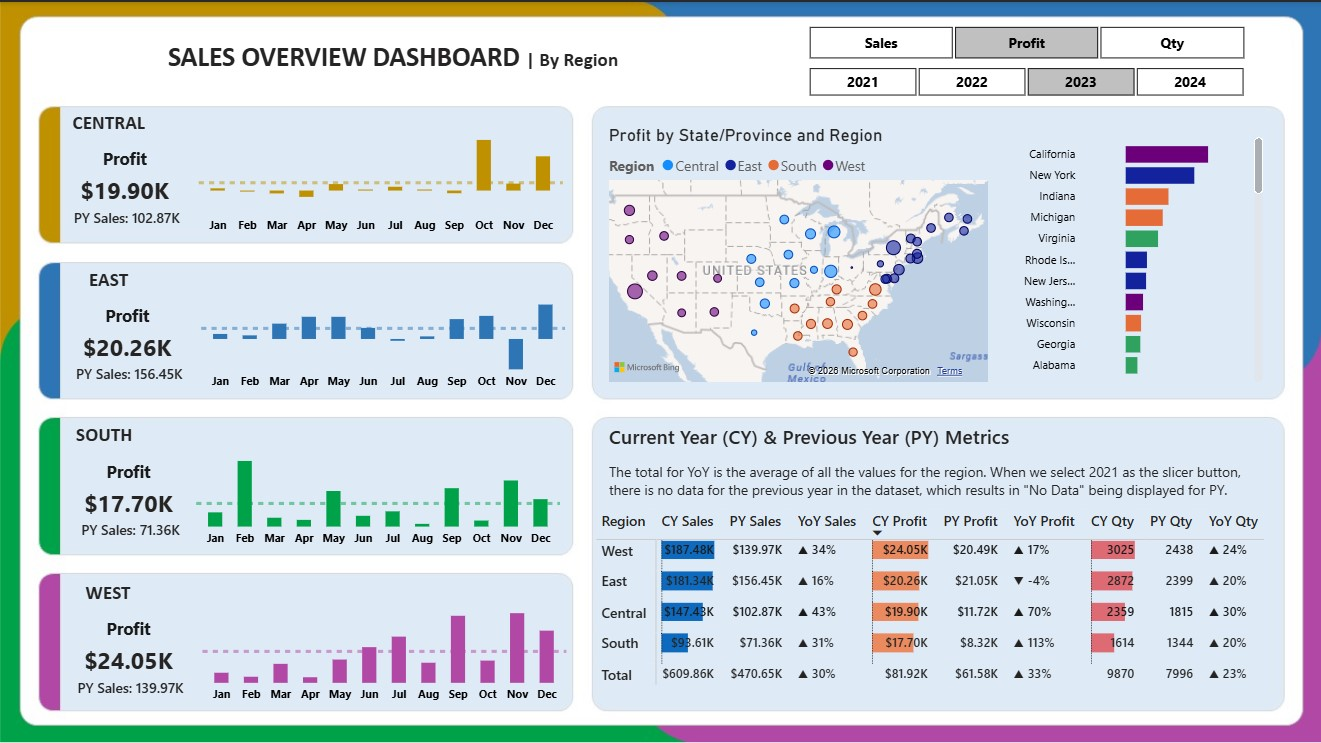

This screenshot's page, from the dashboard's own definition file:
{"tool":"powerbi","page":{"name":"Page 1","canvas":[1280,720],"ordinal":0},"visuals":[{"type":"slicer","fields":{"Values":["Select Metric.Select Metric"]},"box":[757.8,16.9,470.9,44.8],"z":0},{"type":"card","fields":{"Values":["Sales Data.Total Qty"]},"box":[60.5,162.2,121,43.6],"z":1000},{"type":"textbox","box":[60.5,100.5,89.6,36.3],"z":2000},{"type":"slicer","fields":{"Values":["Calendar Table.Year"]},"box":[757.7,56.3,470.4,38],"z":3000},{"type":"card","fields":{"Values":["Sales Data.Dynamic Title"]},"box":[77.5,136.8,87.2,35.1],"z":4000},{"type":"card","fields":{"Values":["Sales Data.PY KPI Sales"]},"box":[64.2,196.1,117.4,25.4],"z":5000},{"type":"clusteredColumnChart","fields":{"Y":["Sales Data.Total Qty"],"Category":["Calendar Table.Month"]},"box":[188,100.2,362.3,133.1],"z":6000},{"type":"textbox","box":[67.8,31.5,625.8,49.6],"z":7000},{"type":"card","fields":{"Values":["Sales Data.Total Qty"]},"box":[62.8,313.8,121,43.6],"z":8000},{"type":"textbox","box":[60.4,252.5,89.2,35.7],"z":9000},{"type":"card","fields":{"Values":["Sales Data.Dynamic Title"]},"box":[79.8,288.4,87.2,35.1],"z":10000},{"type":"card","fields":{"Values":["Sales Data.PY KPI Sales"]},"box":[66.5,347.7,117.4,25.4],"z":11000},{"type":"clusteredColumnChart","fields":{"Y":["Sales Data.Total Qty"],"Category":["Calendar Table.Month"]},"box":[190.3,251.8,362.3,133.1],"z":12000},{"type":"card","fields":{"Values":["Sales Data.Total Qty"]},"box":[64.1,465.4,121,43.6],"z":13000},{"type":"textbox","box":[60.4,403.4,85.1,37],"z":14000},{"type":"card","fields":{"Values":["Sales Data.Dynamic Title"]},"box":[81,440,87.2,35.1],"z":15000},{"type":"card","fields":{"Values":["Sales Data.PY KPI Sales"]},"box":[67.7,499.3,117.4,25.4],"z":16000},{"type":"clusteredColumnChart","fields":{"Y":["Sales Data.Total Qty"],"Category":["Calendar Table.Month"]},"box":[185.2,403.4,362.3,133.1],"z":17000},{"type":"card","fields":{"Values":["Sales Data.Total Qty"]},"box":[64.1,616.9,121,43.6],"z":18000},{"type":"textbox","box":[64.5,555.7,81,35.7],"z":19000},{"type":"card","fields":{"Values":["Sales Data.Dynamic Title"]},"box":[81,591.5,87.2,35.1],"z":20000},{"type":"card","fields":{"Values":["Sales Data.PY KPI Sales"]},"box":[67.7,650.8,117.4,25.4],"z":21000},{"type":"clusteredColumnChart","fields":{"Y":["Sales Data.Total Qty"],"Category":["Calendar Table.Month"]},"box":[191.5,554.9,362.3,133.1],"z":22000},{"type":"map","fields":{"Size":["Sales Data.Total Qty"],"Category":["Sales Data.State/Province"],"Series":["Sales Data.Region"]},"box":[584.5,118.3,377.5,254.9],"z":23000},{"type":"barChart","fields":{"Y":["Sales Data.Total Qty"],"Category":["Sales Data.State/Province"],"Series":["Sales Data.Region"]},"box":[974.6,118.3,253.5,254.9],"z":24000},{"type":"pivotTable","fields":{"Rows":["Sales Data.Region"],"Values":["Sales Data.CY Sales","Sales Data.PY Sales","Sales Data.YoY Sales","Sales Data.CY Profit","Sales Data.PY Profit","Sales Data.YoY Profit","Sales Data.CY Qty","Sales Data.PY Qty","Sales Data.YoY Qty"]},"box":[572.6,486.6,668.2,188.8],"z":25000},{"type":"textbox","box":[584.5,402.8,408.5,36.6],"z":26000},{"type":"textbox","box":[584.7,440.6,627,46],"z":27000}]}

Visuals, with their boxes in screenshot pixels (x1, y1, x2, y2), scaled from the page's 1280x720 canvas onto the 1321x743 screenshot:
slicer - Select Metric.Select Metric: [x1=782, y1=17, x2=1268, y2=64]
card - Sales Data.Total Qty: [x1=62, y1=167, x2=187, y2=212]
textbox: [x1=62, y1=104, x2=155, y2=141]
slicer - Calendar Table.Year: [x1=782, y1=58, x2=1267, y2=97]
card - Sales Data.Dynamic Title: [x1=80, y1=141, x2=170, y2=177]
card - Sales Data.PY KPI Sales: [x1=66, y1=202, x2=187, y2=229]
clusteredColumnChart - Sales Data.Total Qty x Calendar Table.Month: [x1=194, y1=103, x2=568, y2=241]
textbox: [x1=70, y1=33, x2=716, y2=84]
card - Sales Data.Total Qty: [x1=65, y1=324, x2=190, y2=369]
textbox: [x1=62, y1=261, x2=154, y2=297]
card - Sales Data.Dynamic Title: [x1=82, y1=298, x2=172, y2=334]
card - Sales Data.PY KPI Sales: [x1=69, y1=359, x2=190, y2=385]
clusteredColumnChart - Sales Data.Total Qty x Calendar Table.Month: [x1=196, y1=260, x2=570, y2=397]
card - Sales Data.Total Qty: [x1=66, y1=480, x2=191, y2=525]
textbox: [x1=62, y1=416, x2=150, y2=454]
card - Sales Data.Dynamic Title: [x1=84, y1=454, x2=174, y2=490]
card - Sales Data.PY KPI Sales: [x1=70, y1=515, x2=191, y2=541]
clusteredColumnChart - Sales Data.Total Qty x Calendar Table.Month: [x1=191, y1=416, x2=565, y2=554]
card - Sales Data.Total Qty: [x1=66, y1=637, x2=191, y2=682]
textbox: [x1=67, y1=573, x2=150, y2=610]
card - Sales Data.Dynamic Title: [x1=84, y1=610, x2=174, y2=647]
card - Sales Data.PY KPI Sales: [x1=70, y1=672, x2=191, y2=698]
clusteredColumnChart - Sales Data.Total Qty x Calendar Table.Month: [x1=198, y1=573, x2=572, y2=710]
map - Sales Data.Total Qty x Sales Data.State/Province: [x1=603, y1=122, x2=993, y2=385]
barChart - Sales Data.Total Qty x Sales Data.State/Province: [x1=1006, y1=122, x2=1267, y2=385]
pivotTable - Sales Data.Region x Sales Data.CY Sales: [x1=591, y1=502, x2=1281, y2=697]
textbox: [x1=603, y1=416, x2=1025, y2=453]
textbox: [x1=603, y1=455, x2=1251, y2=502]
